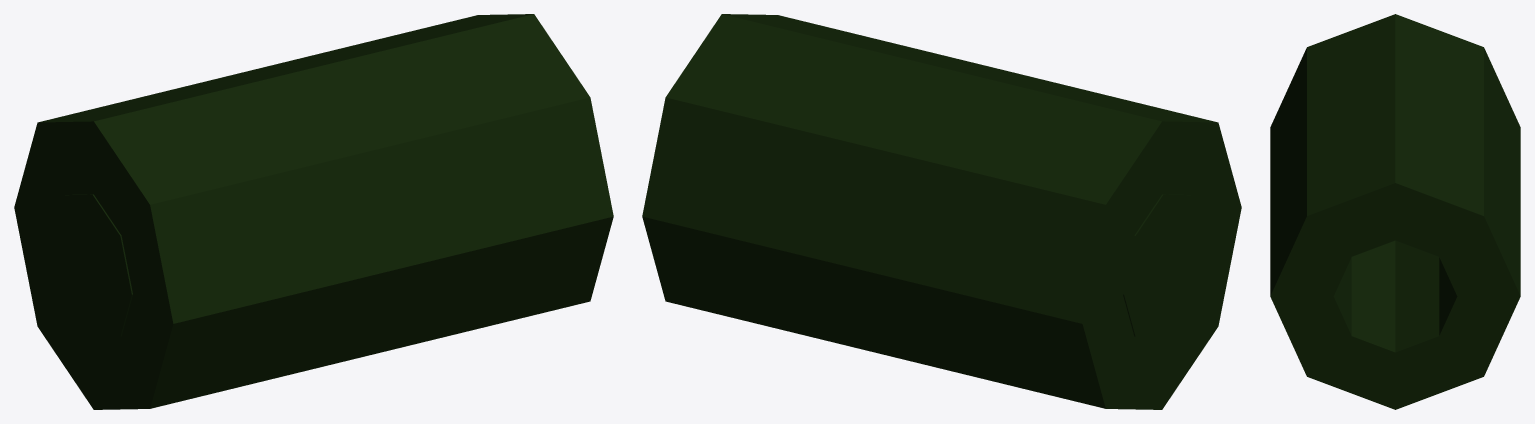
File: turret3_barrel.obj
The picture shows the model from 3 angles, left to right: view 1: azimuth 30°, elevation 25°; view 2: azimuth 150°, elevation 25°; view 3: azimuth 270°, elevation 25°; orthographic projection. The views are drawn at different scales.
Parts seen in each view (by area): view 1: Circle.011; view 2: Circle.011; view 3: Circle.011.
Boxes of the visible parts, x1=… form: Circle.011: x1=14, y1=14, x2=613, y2=409; Circle.011: x1=642, y1=14, x2=1241, y2=409; Circle.011: x1=1270, y1=14, x2=1520, y2=409.
Size of the model in its own units: 0.1806 by 0.1128 by 0.1128.
